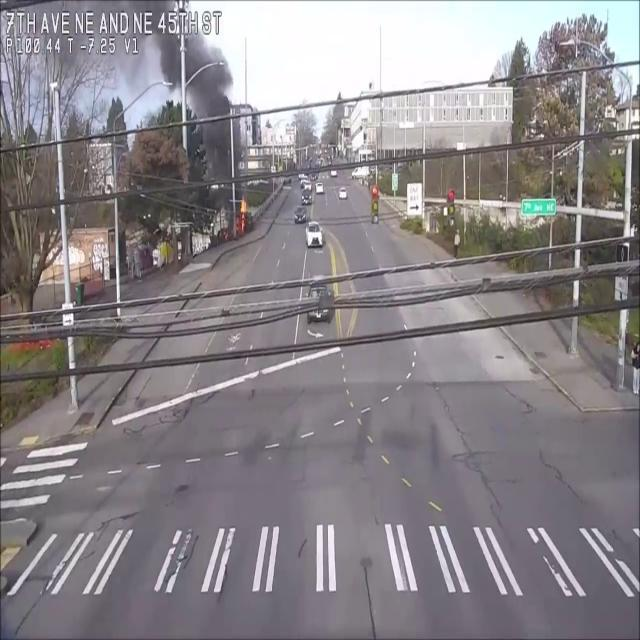Fire: (237, 193, 248, 235)
Smoke: (1, 0, 251, 172)
